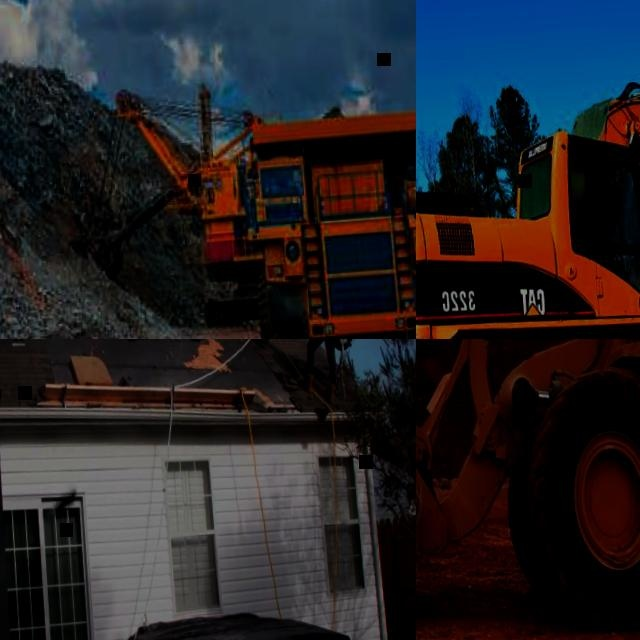Person: (290, 339, 345, 405)
machinery: (416, 339, 640, 640), (416, 62, 640, 339), (61, 80, 272, 337), (239, 96, 416, 339)
